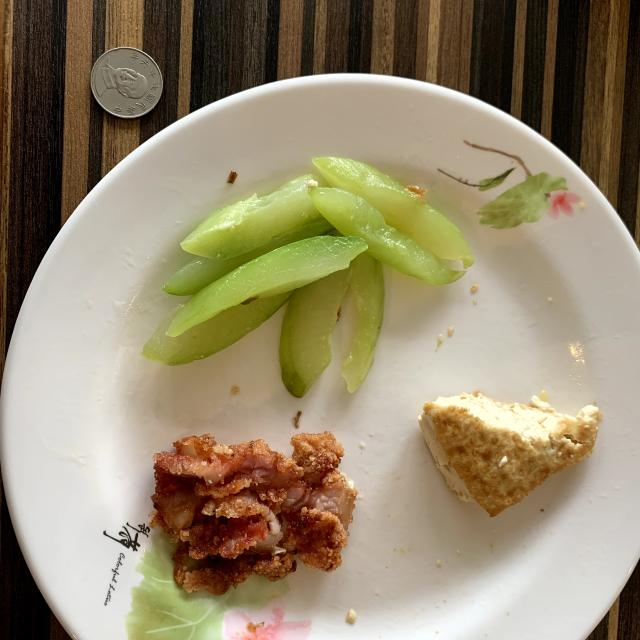coin: (90, 48, 162, 119)
red grilled pork: (151, 432, 356, 595)
